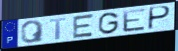E: (122, 8, 148, 34), (71, 13, 96, 40)
G: (97, 11, 121, 35)
P: (147, 5, 172, 31)
Q: (20, 20, 45, 44)
T: (48, 17, 68, 41)
